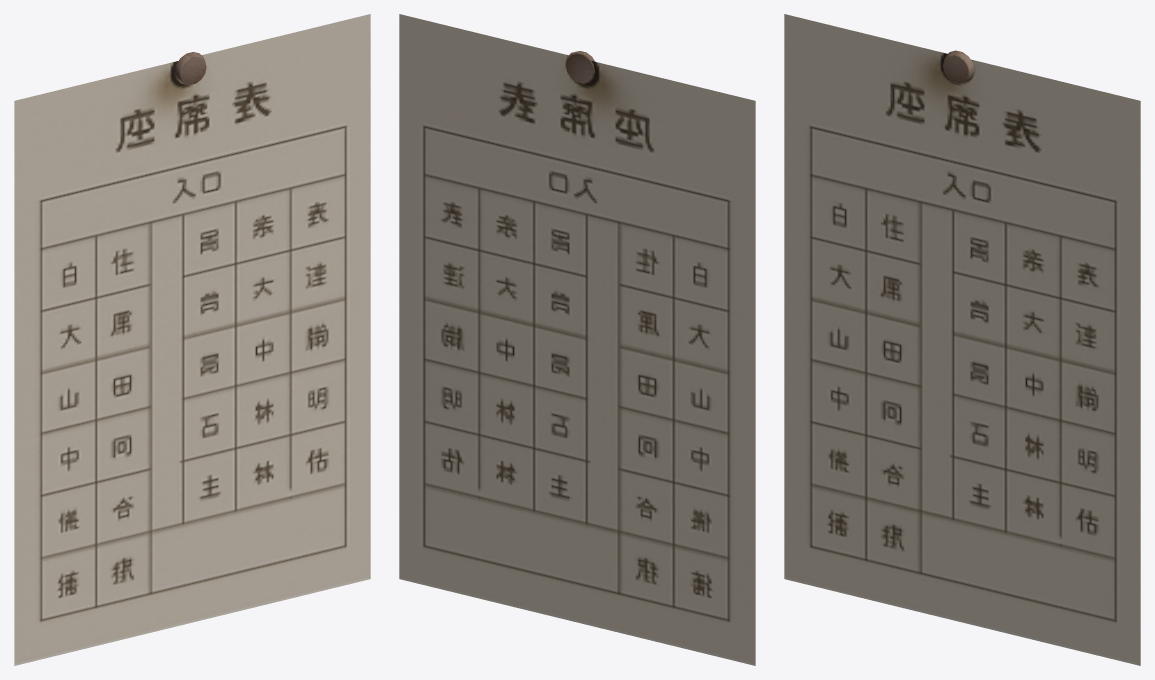
File: SM_notice_003.fbx
The picture shows the model from 3 angles, left to right: view 1: azimuth 30°, elevation 25°; view 2: azimuth 150°, elevation 25°; view 3: azimuth 330°, elevation 25°; orthographic projection.
Parts seen in each view (by area): view 1: notices07; view 2: notices07; view 3: notices07.
Part boxes in pixels (<box>): notices07: <box>14,14,370,665</box>; notices07: <box>399,14,755,665</box>; notices07: <box>784,14,1140,665</box>.
Bounding box in the file's own units: 13.75 × 21.07 × 0.304.
Materials: 1 (1 with a texture image).
